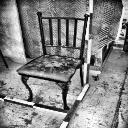chair_success: (14, 10, 92, 114)
